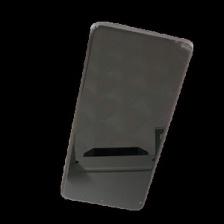phone: (57, 17, 197, 215)
